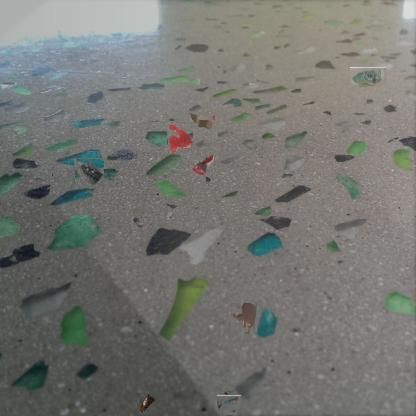dirty: (74, 158, 104, 186), (350, 67, 386, 86), (190, 152, 214, 176), (189, 112, 215, 132), (137, 394, 157, 416), (220, 393, 239, 413)
liquid: (167, 122, 193, 154), (231, 304, 257, 334)
